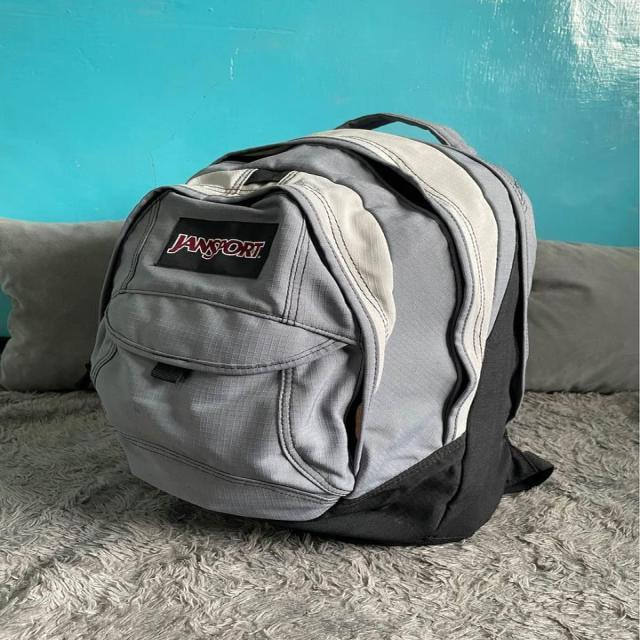bag: (92, 112, 537, 542)
